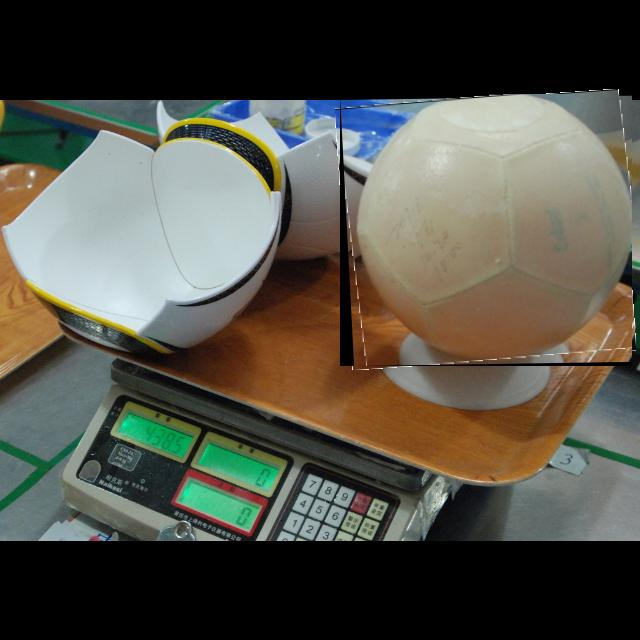Football: (340, 94, 632, 366)
